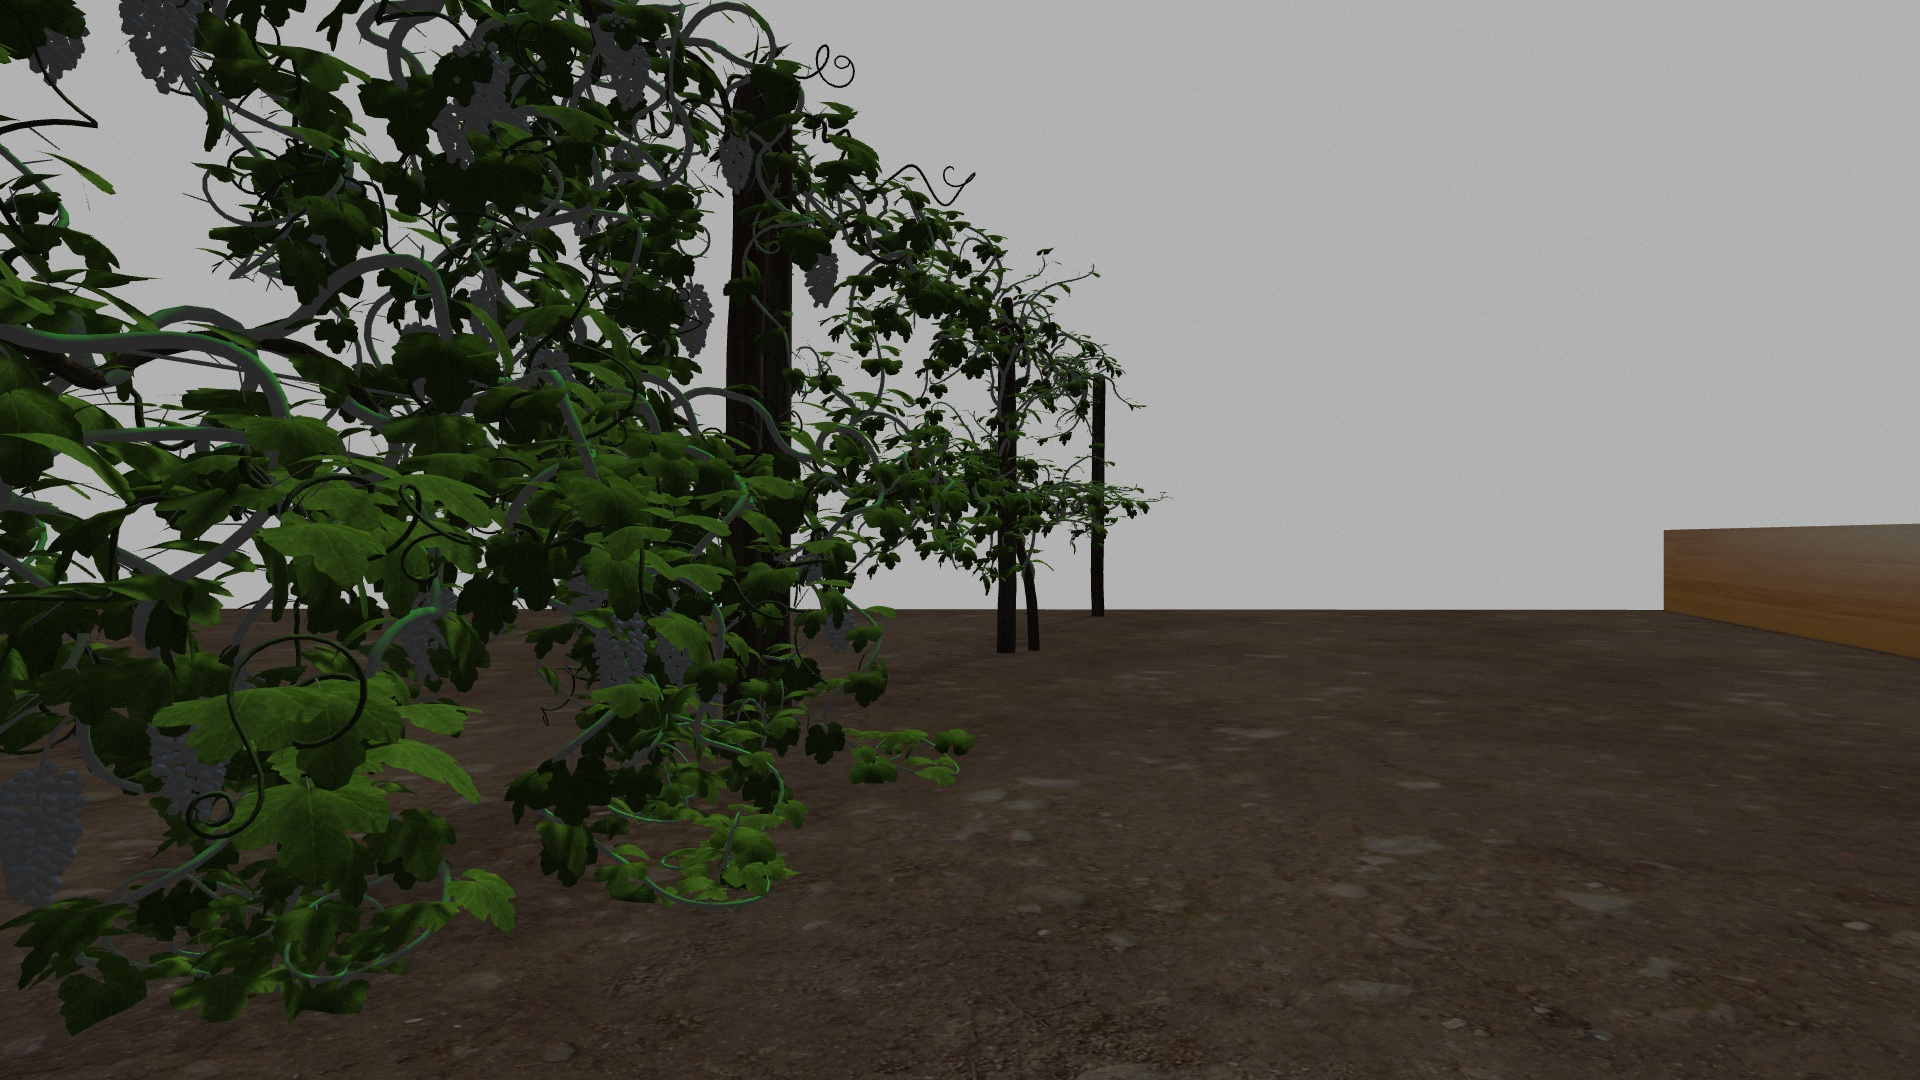grape: (9, 764, 91, 910), (145, 721, 232, 822), (116, 5, 204, 94), (451, 41, 512, 129), (593, 617, 649, 687), (607, 37, 651, 113), (404, 613, 447, 683), (676, 284, 715, 359), (804, 244, 841, 309), (717, 133, 756, 195), (654, 629, 695, 683), (825, 608, 855, 651)
